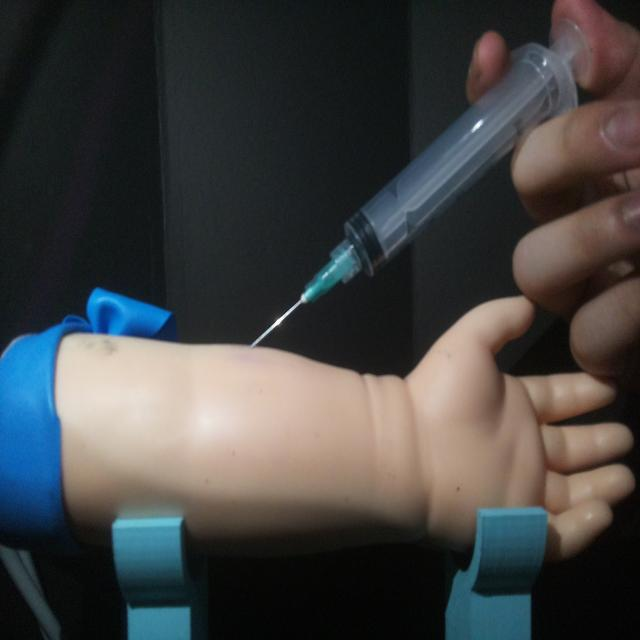30deg: (243, 19, 591, 352)
